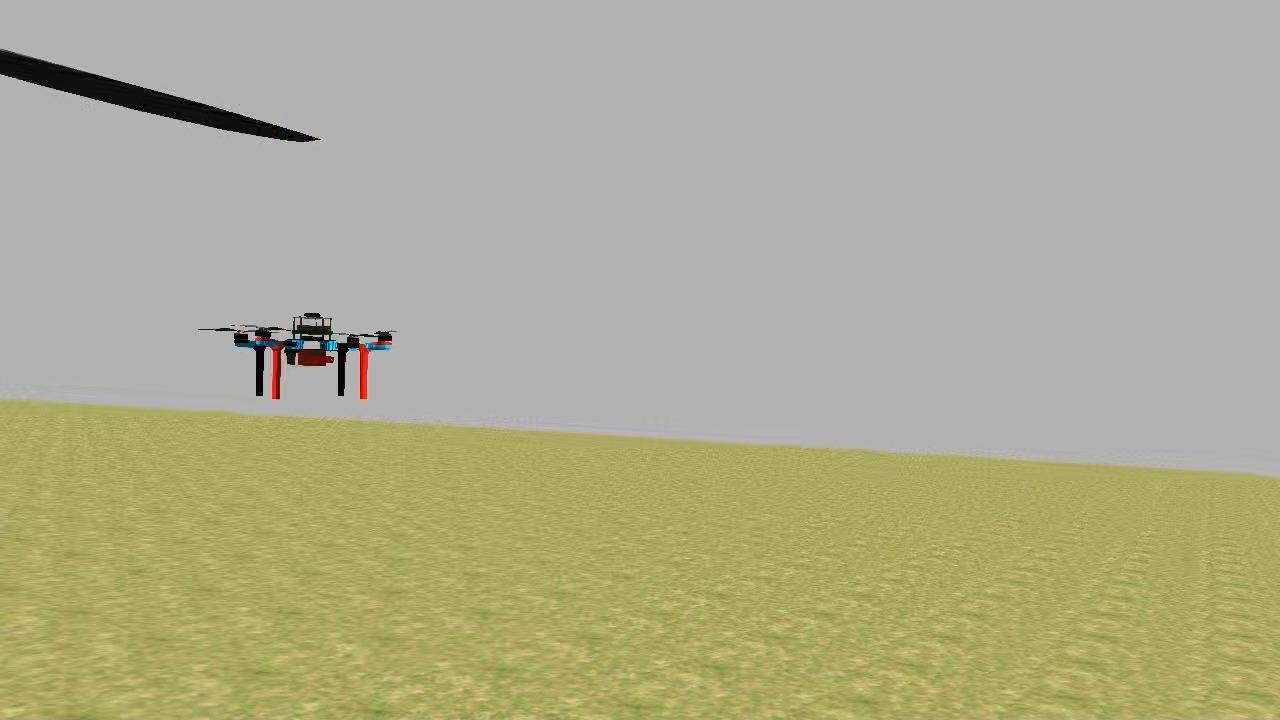UAV: (228, 306, 398, 402)
